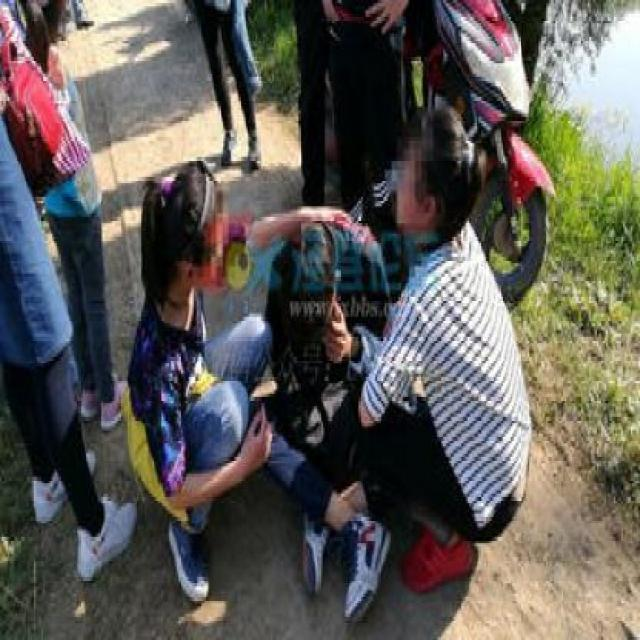fall: (249, 187, 394, 596)
